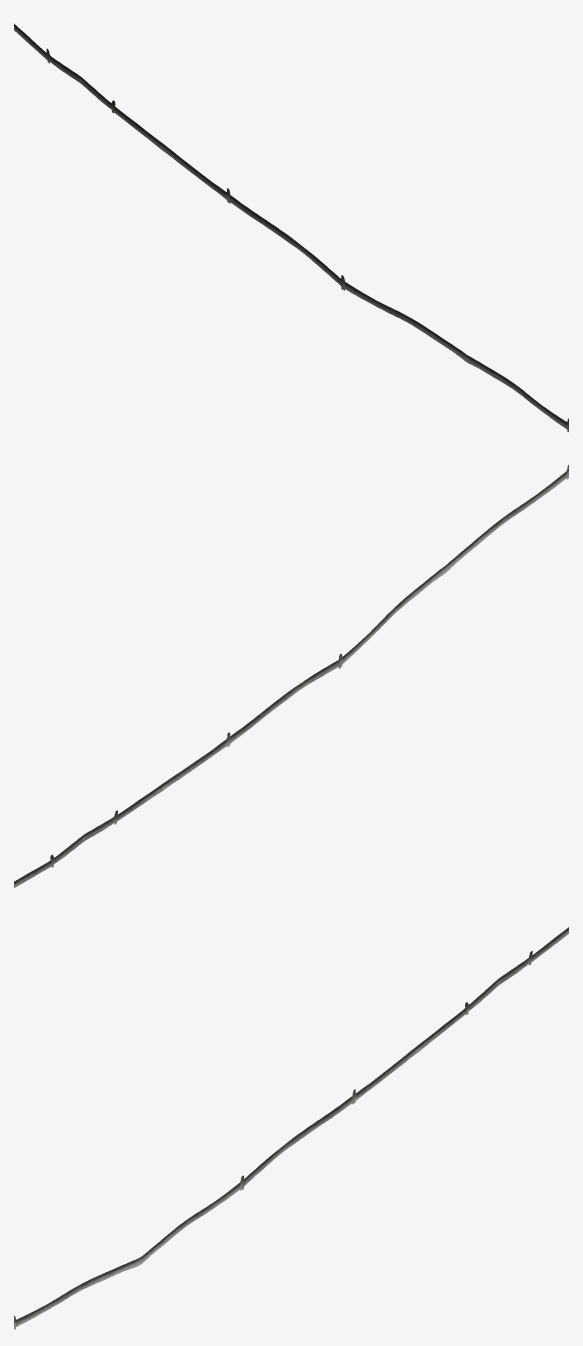
Rendered from ThickWire_T01.FBX.
3 views of the same model, one above another, from view 1: azimuth 30°, elevation 25°; view 2: azimuth 150°, elevation 25°; view 3: azimuth 330°, elevation 25° (orthographic).
Parts seen in each view (by area): view 1: ThickWire_T01; view 2: ThickWire_T01; view 3: ThickWire_T01.
Part boxes in pixels (x1,y1,x2,y2): ThickWire_T01: (14, 24, 568, 431); ThickWire_T01: (14, 465, 568, 887); ThickWire_T01: (14, 927, 568, 1329).
Bounding box in the file's own units: 1.97 × 6.55 × 158.
Materials: 1 (1 with a texture image).
